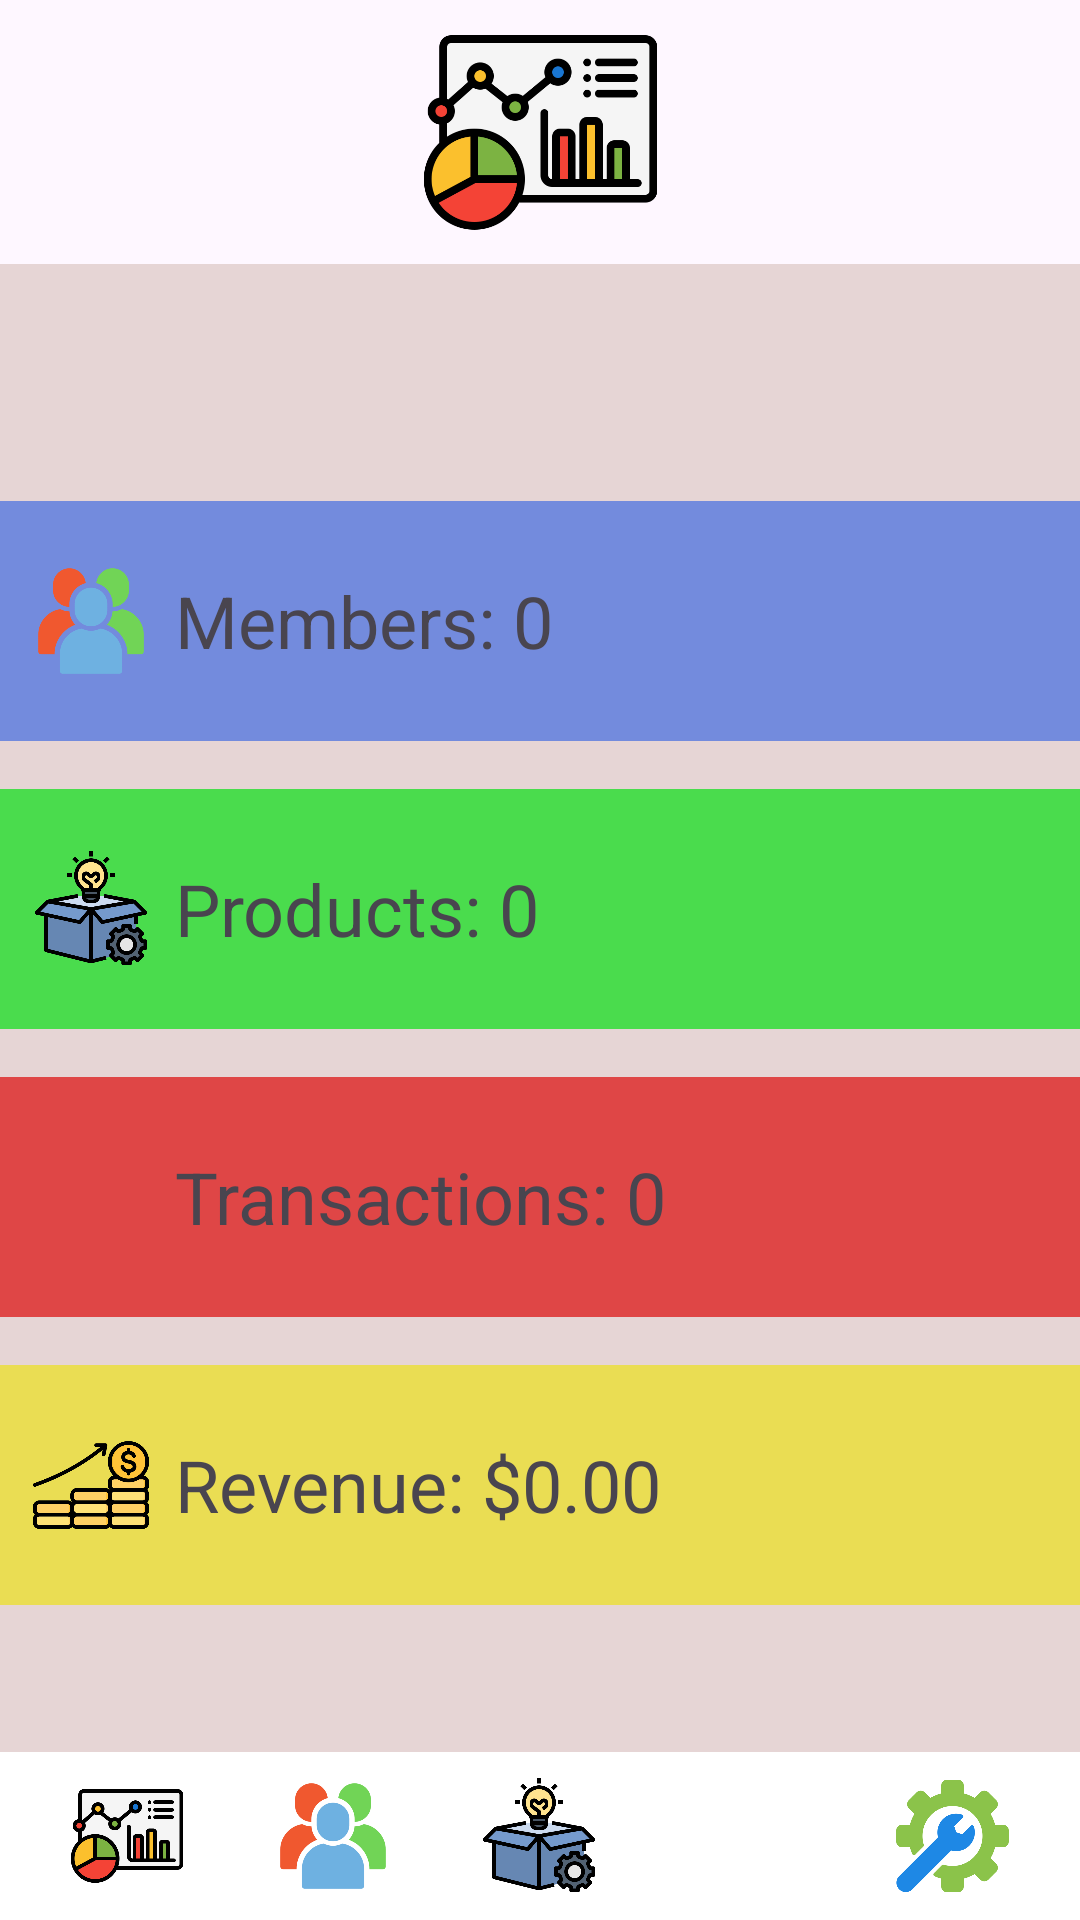

Screen size 1080px×1920px. Icon name, then its box in pixels as rect(x1, y1, x2, y2):
dashboard: rect(424, 35, 657, 230), rect(71, 1789, 183, 1883)
setting: rect(896, 1780, 1009, 1892)
users: rect(38, 568, 144, 674), rect(280, 1783, 386, 1889)
